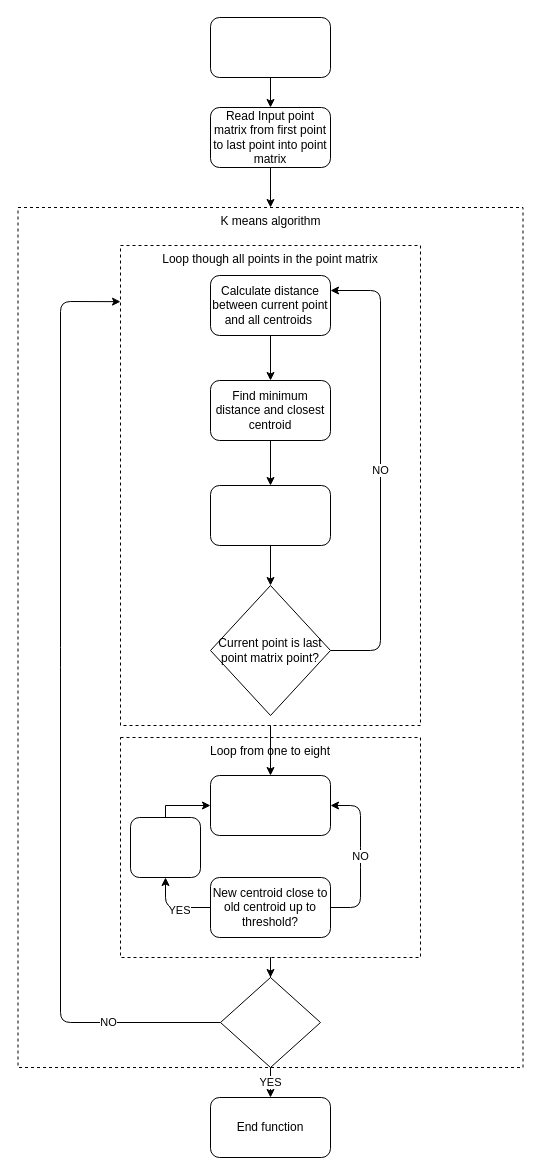
The diagram is 540 pixels wide and 1175 high, and some of its shapes have lost their labels. The centre of each missing label's shape, as x and y in pixels:
"Add current point to closest accumulator and add one to accumulator counter" belongs at [270,515].
"Add one to convergence counter" belongs at [165,847].
"Calculate new centoid" belongs at [270,805].
"Convergence counter is 8?" belongs at [270,1022].
"Received inputs" belongs at [270,47].
